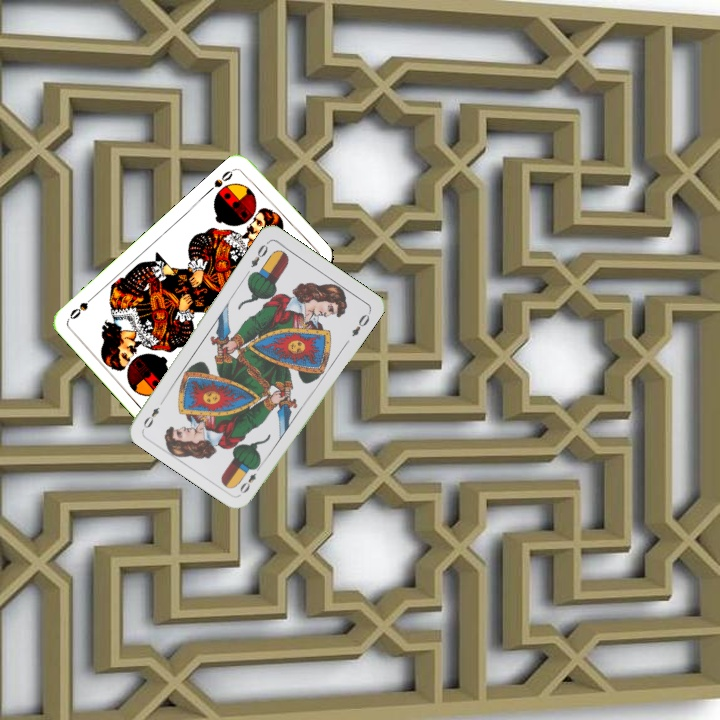EO: (236, 460, 264, 496), (247, 238, 271, 270)
SO: (210, 164, 238, 190)
